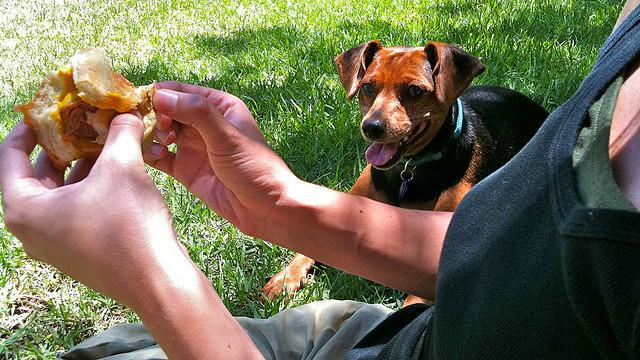hand: (3, 114, 194, 325), (138, 77, 331, 234)
